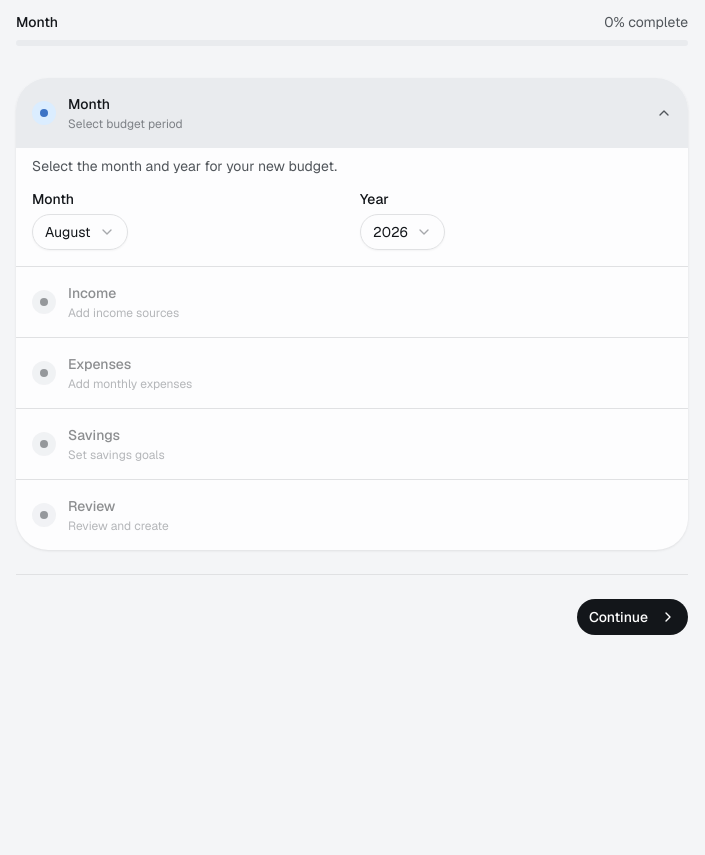
Test case: WizardShell › enables Continue on step 2 after adding valid income
Click the button "Continue": (632, 617) [577,599,688,635]
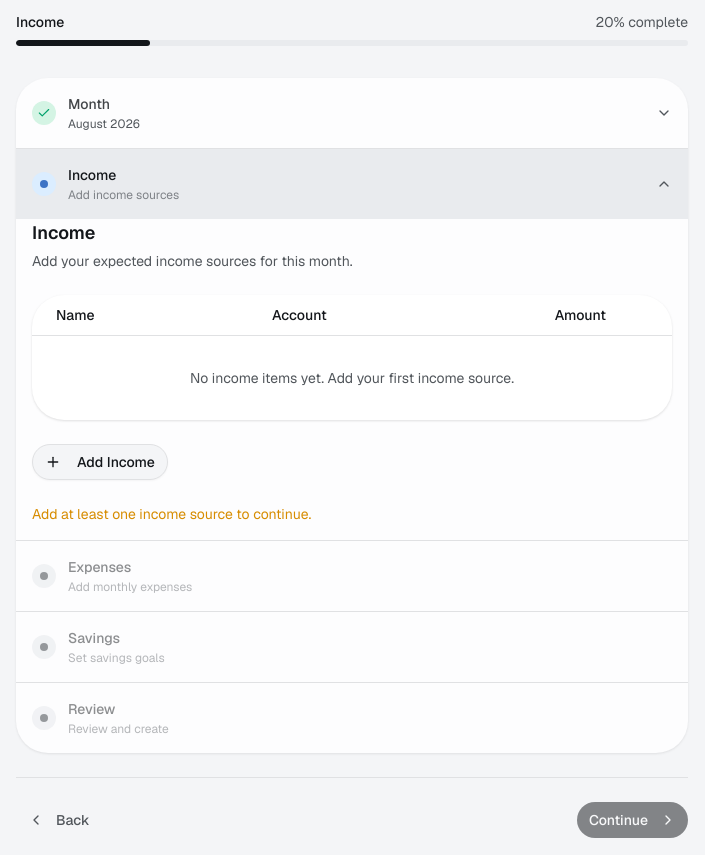
Expected: the text "Add your expected income sources for this month." is shown, [32,251,353,271]
// Find the outline button with "Add Income" text (not the section header)
Click the button "Add Income": (100, 462) [32,444,168,480]
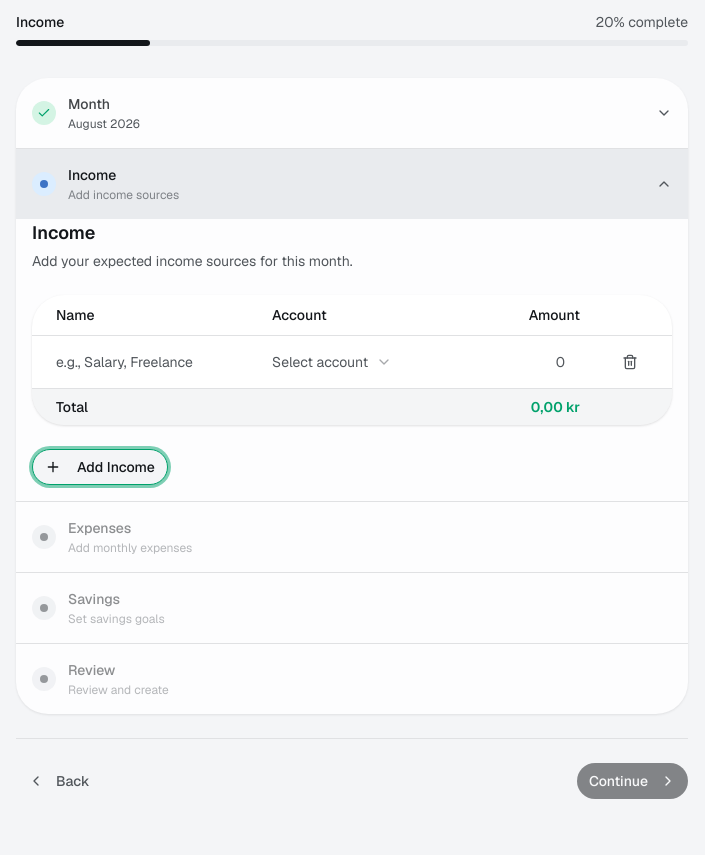
In the field with placeholder "e.g., Salary, Freelance": (148, 362) [56,344,240,380], type "My Salary"
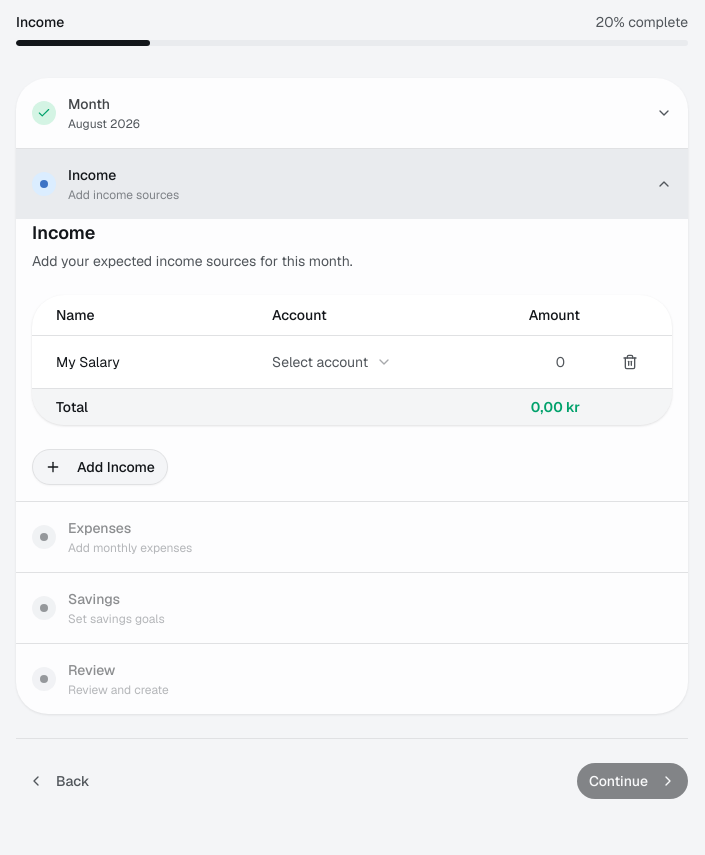
In the number field with placeholder "0": (522, 362) [464,344,580,380], type "50000"
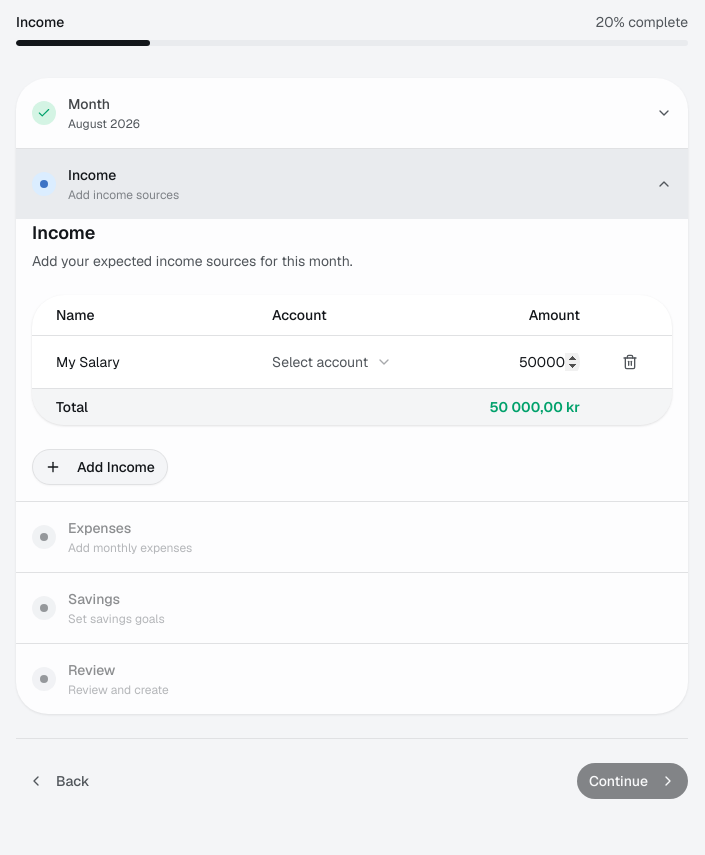
Click the dropdown: (332, 362) [272,344,392,380]
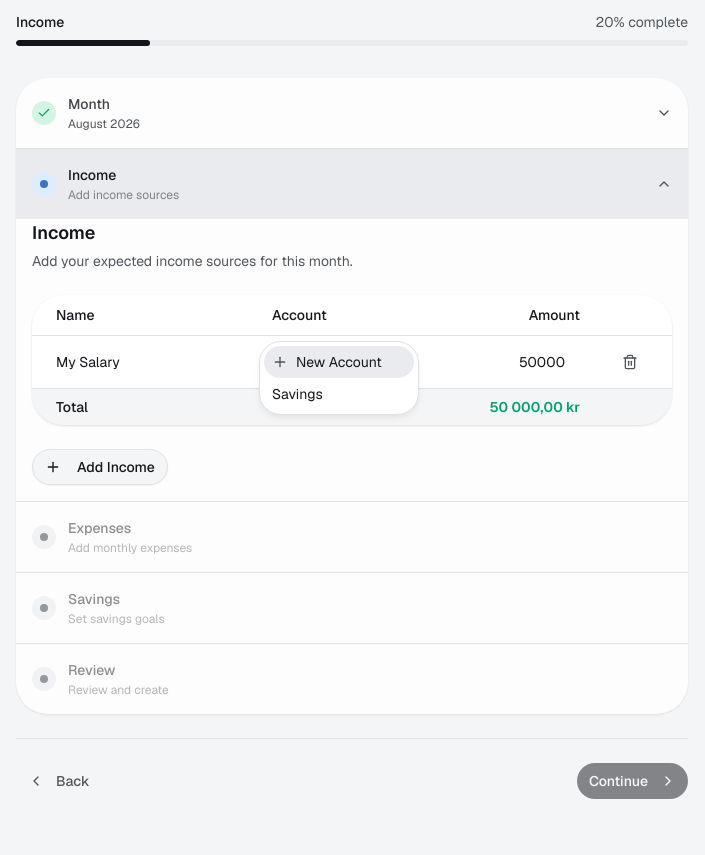
Expected: the option "Savings" is shown
Click the option "Savings": (297, 394) [272,384,323,402]
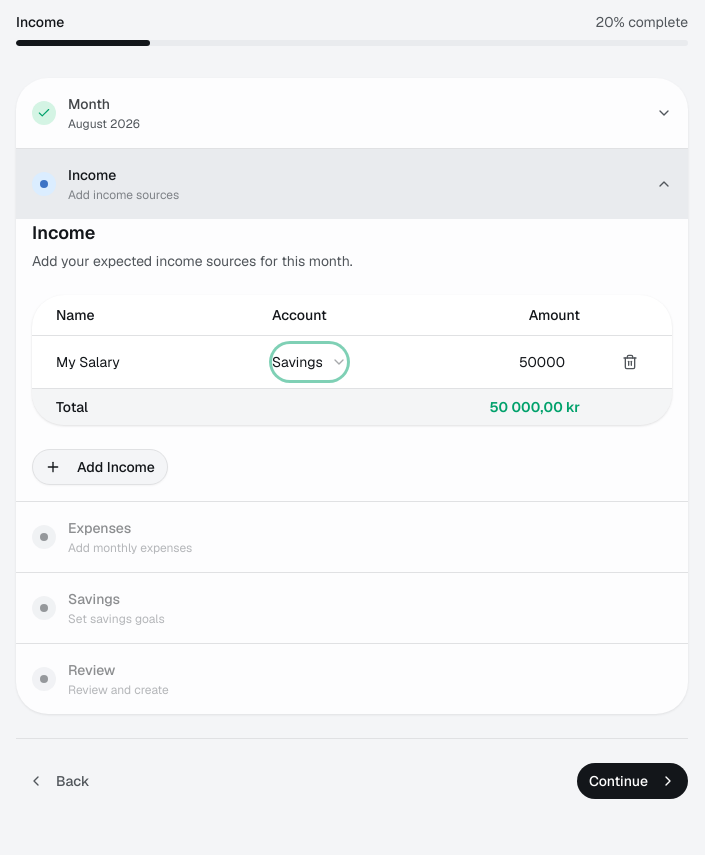
Expected: the button "Continue" is enabled, [577,762,688,798]
